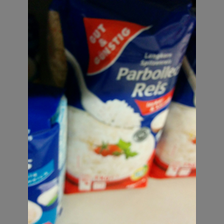rice: (47, 1, 195, 195)
